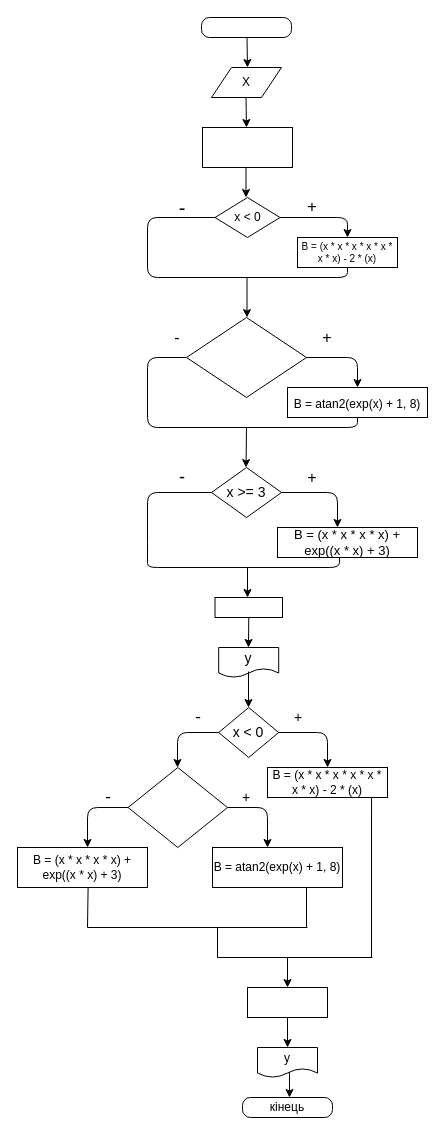
The diagram is 445 pixels wide and 1135 high, and some of its shapes have lost their labels. The centre of each missing label's shape, as x and y in pixels:
"0 <= x && x<3" belongs at (x=246, y=357).
"0<=x && x<3" belongs at (x=177, y=807).
"A = fabs(4 * (x)-1)" belongs at (x=247, y=147).
"y = A + B" belongs at (x=248, y=607).
"y = A +B" belongs at (x=287, y=1002).
"початок" belongs at (x=246, y=27).
